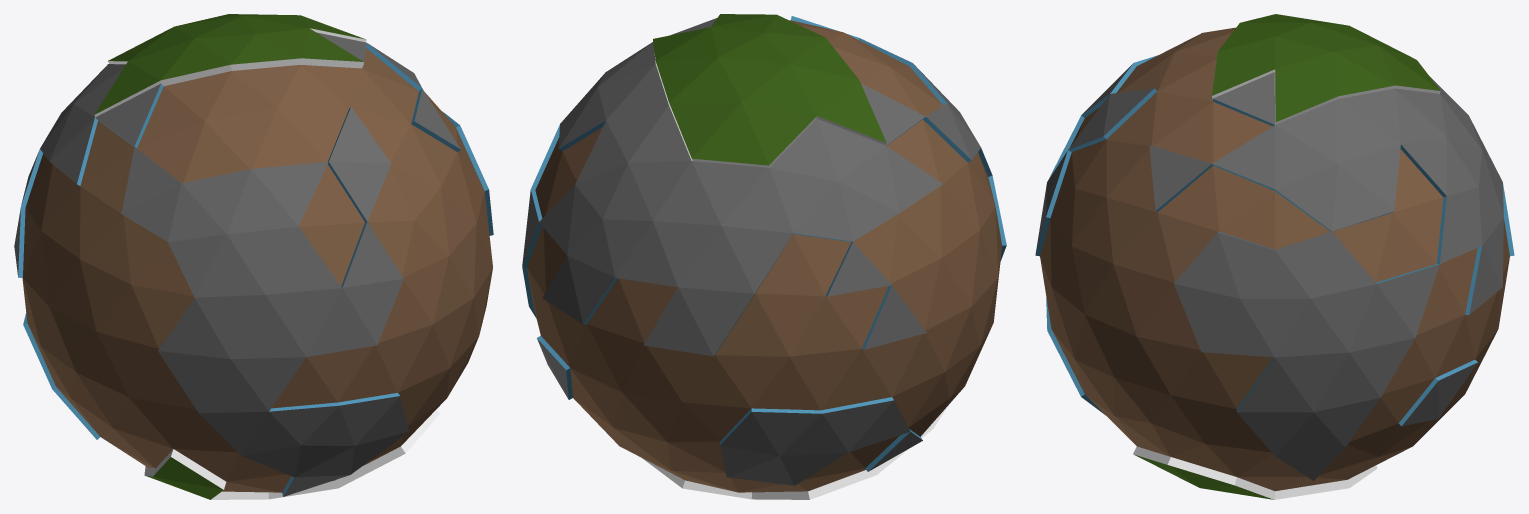
File: Borg_Earth.fbx
3 renders of one model, left to right at view 1: azimuth 30°, elevation 25°; view 2: azimuth 150°, elevation 25°; view 3: azimuth 270°, elevation 25°, orthographic.
Parts seen in each view (by area): view 1: Cube; view 2: Cube; view 3: Cube.
Part boxes in pixels (x1,y1,x2,y2): Cube: (14, 14, 493, 499); Cube: (522, 14, 1006, 499); Cube: (1035, 14, 1514, 499).
Bounding box in the file's own units: 2020 × 2069 × 2039.
